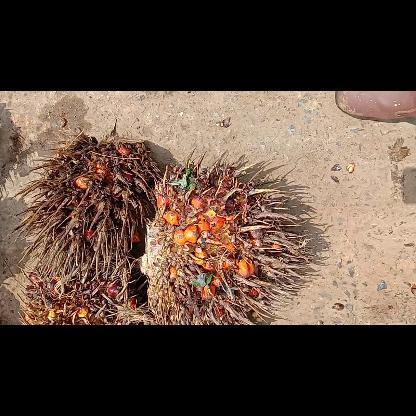Terlalu masak: (137, 158, 321, 324), (9, 130, 167, 280), (13, 252, 150, 324)
